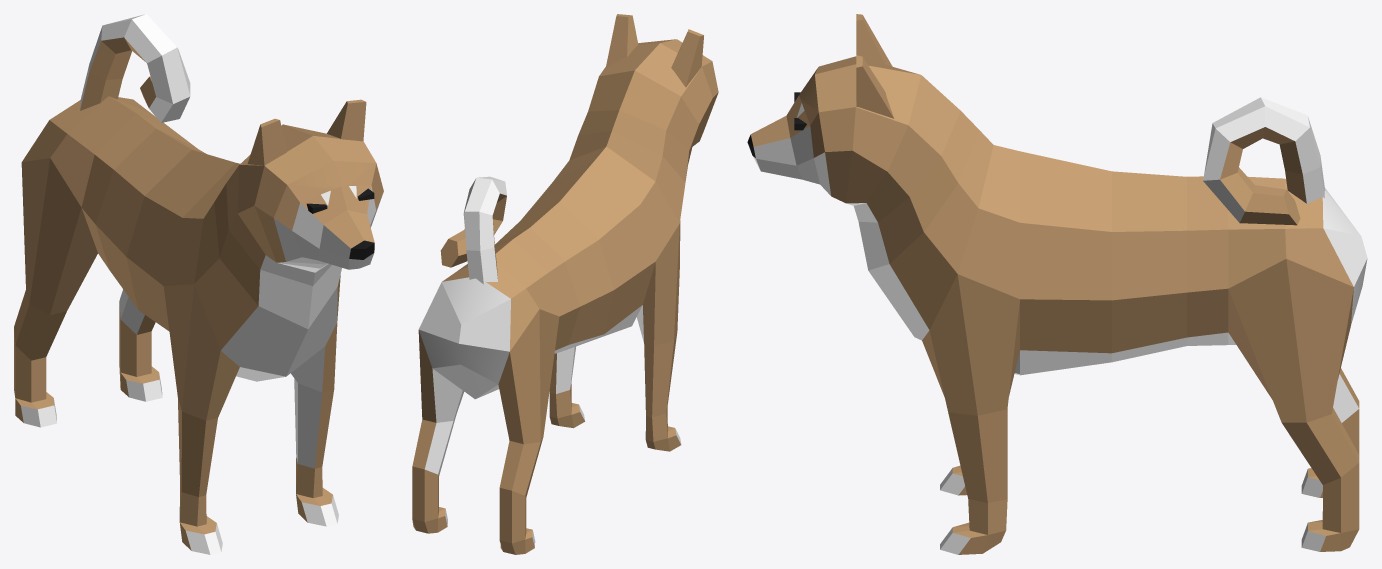
The model's file is ShibaInu.glb.
3 views of the same model, side by side, from view 1: azimuth 30°, elevation 25°; view 2: azimuth 150°, elevation 25°; view 3: azimuth 270°, elevation 25° (orthographic). The views are drawn at different scales.
Parts seen in each view (by area): view 1: Shiba, Shiba tail, Shiba Ears r_ear, Shiba l_ear Ears; view 2: Shiba, Shiba tail, Shiba Ears r_ear, Shiba l_ear Ears; view 3: Shiba, Shiba tail, Shiba l_ear Ears, Shiba Ears r_ear.
Part boxes in pixels (x1=…): Shiba: x1=14, y1=96, x2=383, y2=554; Shiba tail: x1=80, y1=14, x2=190, y2=122; Shiba Ears r_ear: x1=247, y1=118, x2=286, y2=165; Shiba l_ear Ears: x1=327, y1=99, x2=366, y2=141; Shiba: x1=412, y1=39, x2=718, y2=554; Shiba tail: x1=440, y1=176, x2=506, y2=284; Shiba Ears r_ear: x1=671, y1=29, x2=703, y2=87; Shiba l_ear Ears: x1=605, y1=14, x2=638, y2=67; Shiba: x1=747, y1=56, x2=1367, y2=554; Shiba tail: x1=1203, y1=97, x2=1325, y2=225; Shiba l_ear Ears: x1=856, y1=55, x2=894, y2=118; Shiba Ears r_ear: x1=856, y1=14, x2=892, y2=66.
Size of the model in its own units: 2.54 by 7.5 by 8.79.
Materials: 1 (1 with a texture image).
